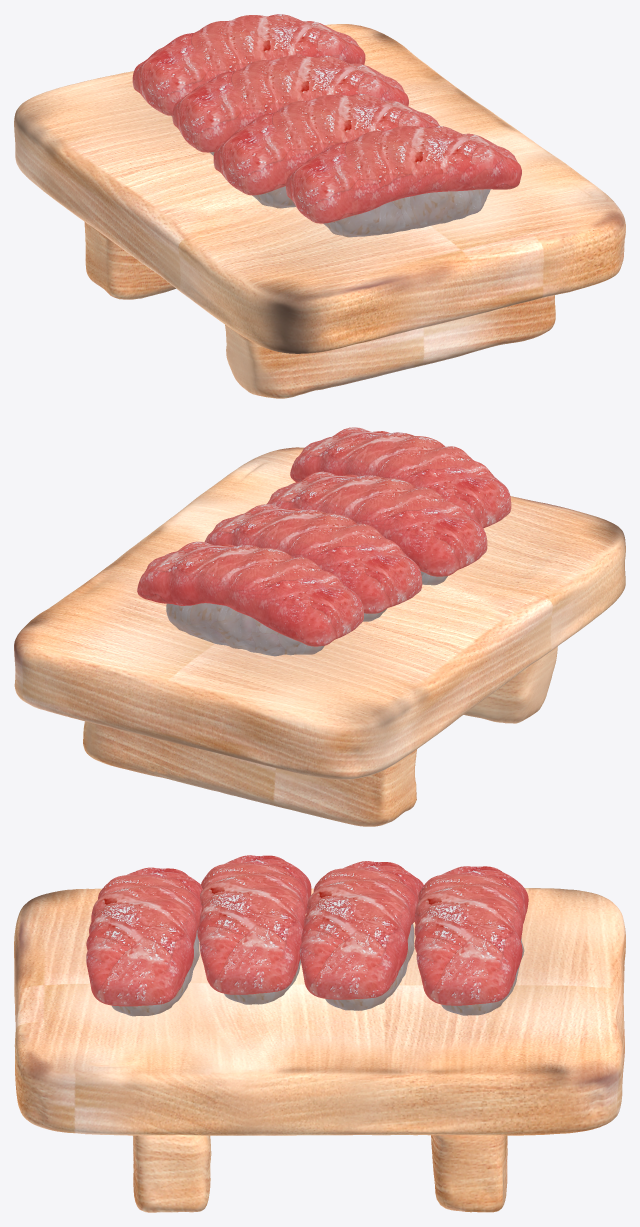
Rendered from sushi_set-d8df71f7-1a16-4bf5-bbed-e85905c268a3.glb.
3 renders of one model, top to bottom at view 1: azimuth 30°, elevation 25°; view 2: azimuth 150°, elevation 25°; view 3: azimuth 270°, elevation 25°, orthographic. The views are drawn at different scales.
Parts seen in each view (by area): view 1: geta03_14, neta11_12, neta11_9, neta11_6, neta11_3, sumeshi11_13, sumeshi11_10; view 2: geta03_14, neta11_3, neta11_9, neta11_6, neta11_12, sumeshi11_4; view 3: geta03_14, neta11_3, neta11_6, neta11_12, neta11_9, sumeshi11_7, sumeshi11_13, sumeshi11_4, sumeshi11_10.
Boxes of the visible parts, bbox=[...] form: geta03_14: bbox=[14, 24, 625, 398]; neta11_12: bbox=[286, 125, 521, 223]; neta11_9: bbox=[213, 93, 439, 195]; neta11_6: bbox=[172, 55, 408, 152]; neta11_3: bbox=[132, 14, 365, 115]; sumeshi11_13: bbox=[323, 189, 490, 237]; sumeshi11_10: bbox=[252, 186, 295, 208]; geta03_14: bbox=[14, 447, 625, 826]; neta11_3: bbox=[137, 541, 363, 646]; neta11_9: bbox=[266, 471, 487, 576]; neta11_6: bbox=[204, 504, 422, 613]; neta11_12: bbox=[290, 427, 511, 528]; sumeshi11_4: bbox=[166, 603, 324, 656]; geta03_14: bbox=[14, 888, 625, 1212]; neta11_3: bbox=[414, 866, 528, 1005]; neta11_6: bbox=[299, 861, 423, 999]; neta11_12: bbox=[86, 867, 202, 1006]; neta11_9: bbox=[197, 855, 311, 994]; sumeshi11_7: bbox=[325, 924, 414, 1010]; sumeshi11_13: bbox=[112, 930, 199, 1016]; sumeshi11_4: bbox=[441, 937, 524, 1015]; sumeshi11_10: bbox=[224, 959, 300, 1004].
Bounding box in the file's own units: 0.2319 × 0.1376 × 0.3074.
3 materials, 3 textured.
